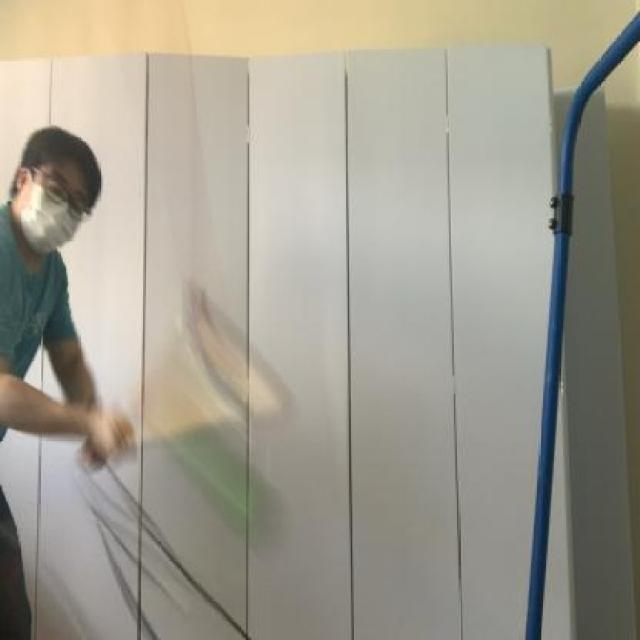baseball: (152, 392, 298, 565)
